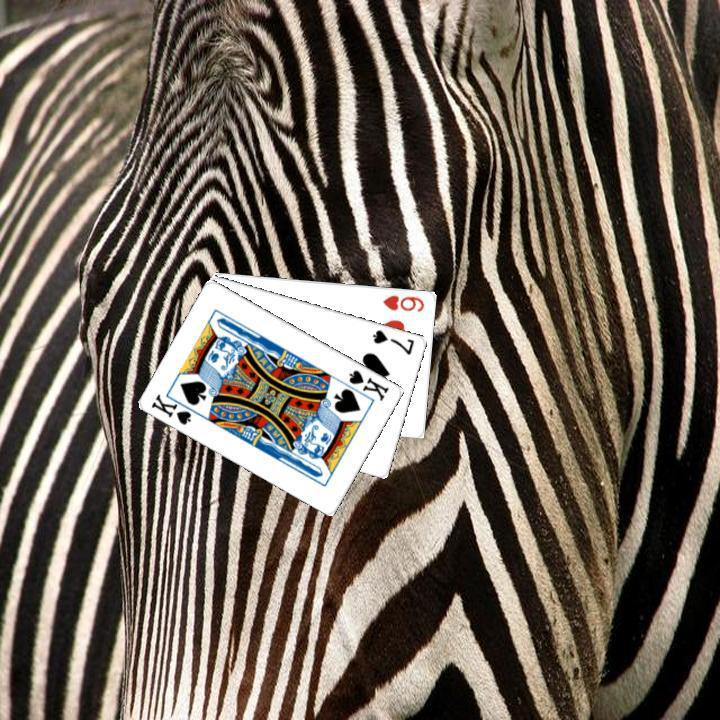6: (379, 290, 427, 313)
7: (369, 325, 417, 356)
K: (147, 389, 202, 427), (345, 365, 391, 403)
